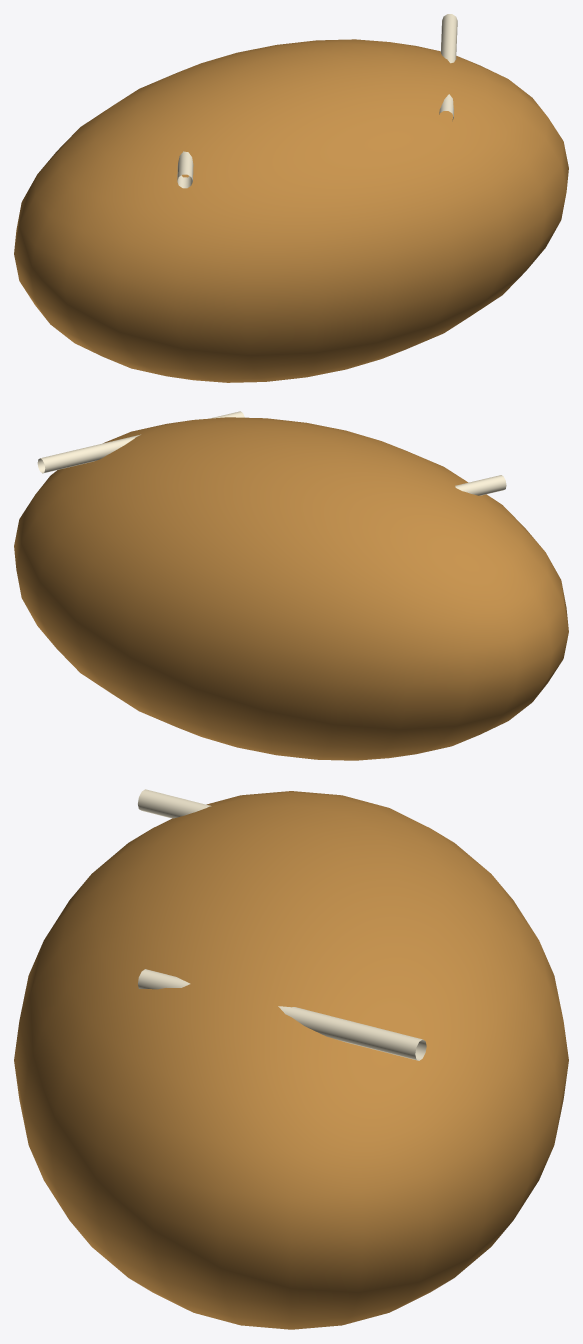
Rendered from SM_EG_CrustyLoaf_e4a4fcd1b8.fbx.
The picture shows the model from 3 angles, top to bottom: view 1: azimuth 30°, elevation 25°; view 2: azimuth 150°, elevation 25°; view 3: azimuth 270°, elevation 25°; orthographic projection. The views are drawn at different scales.
Visible parts, largest first — view 1: SM_EG_CrustyLoaf_e4a4fcd1b8; view 2: SM_EG_CrustyLoaf_e4a4fcd1b8; view 3: SM_EG_CrustyLoaf_e4a4fcd1b8.
Boxes of the visible parts, x1=… form: SM_EG_CrustyLoaf_e4a4fcd1b8: x1=14, y1=14, x2=568, y2=382; SM_EG_CrustyLoaf_e4a4fcd1b8: x1=14, y1=411, x2=568, y2=760; SM_EG_CrustyLoaf_e4a4fcd1b8: x1=14, y1=789, x2=568, y2=1329.
Size of what is drawn, in the model's own units: 46 by 30 by 24.
